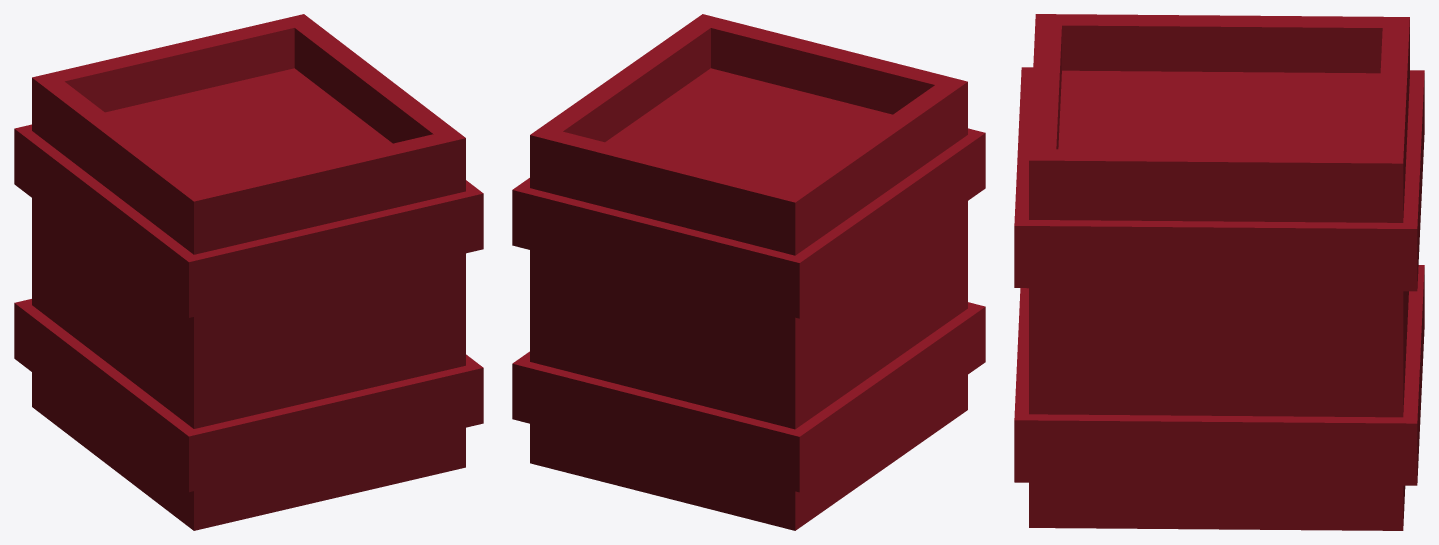
3 views of the same model, side by side, from view 1: azimuth 30°, elevation 25°; view 2: azimuth 150°, elevation 25°; view 3: azimuth 270°, elevation 25° (orthographic). The views are drawn at different scales.
Visible parts, largest first — view 1: box7; view 2: box7; view 3: box7.
Part boxes in pixels (x1,y1,x2,y2): box7: (14,14,483,530); box7: (512,14,985,530); box7: (1014,14,1424,530).
Bounding box in the file's own units: 55.29 × 58.48 × 59.17.
